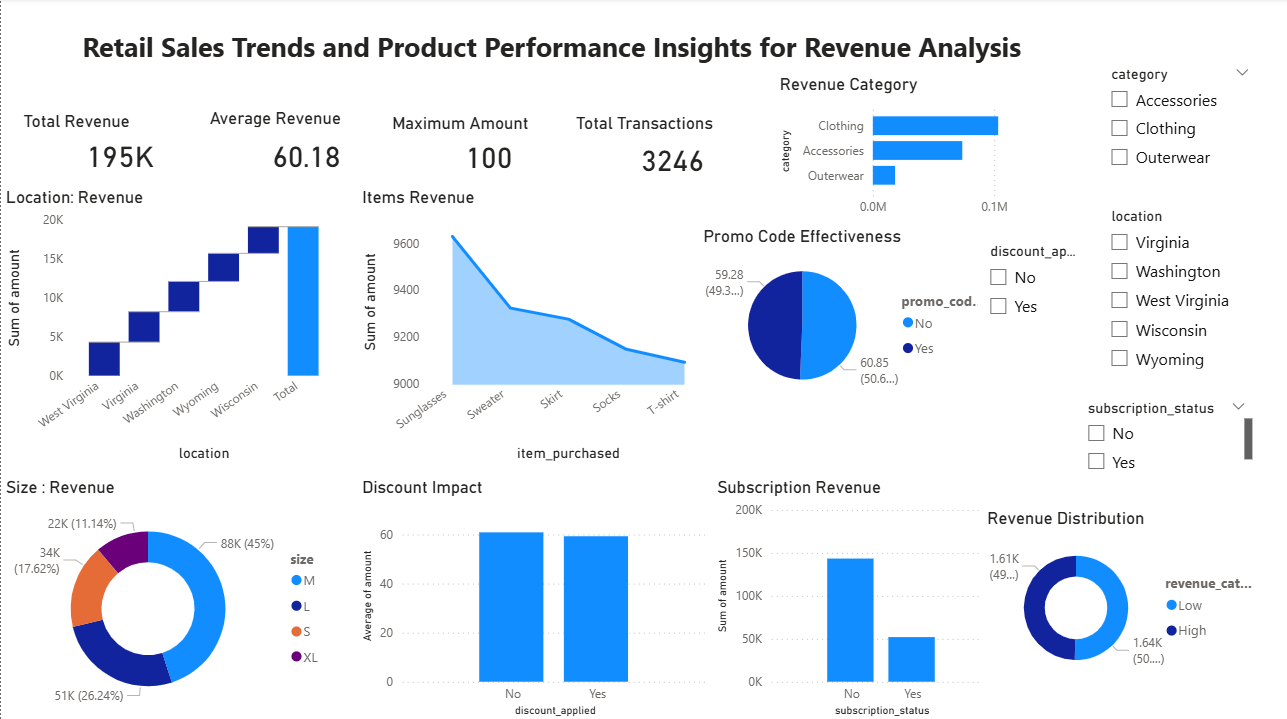

The dashboard page shown, as its layout file describes it:
{"tool":"powerbi","page":{"name":"Page 1","canvas":[1280,720],"ordinal":0},"visuals":[{"type":"textbox","box":[76.3,24.6,947.7,88.6],"z":0},{"type":"card","title":"Total Revenue","fields":{"Values":["Sum(Sheet1.amount)"]},"box":[17.5,112.5,202.5,70],"z":1000},{"type":"card","title":"Average Revenue","fields":{"Values":["Avg(Sheet1.amount)"]},"box":[202.5,110,202.5,75],"z":2000},{"type":"card","title":"Maximum Amount","fields":{"Values":["Max(Sheet1.amount)"]},"box":[385,115,202.5,67.5],"z":3000},{"type":"card","title":"Total  Transactions","fields":{"Values":["CountNonNull(Sheet1.item_purchased)"]},"box":[567.5,115,202.5,72.5],"z":4000},{"type":"clusteredBarChart","title":"Revenue Category","fields":{"Category":["Sheet1.category"],"Y":["Sum(Sheet1.amount)"]},"box":[770,76,298,150],"z":5000},{"type":"areaChart","title":"Items Revenue","fields":{"Category":["Sheet1.item_purchased"],"Y":["Sum(Sheet1.amount)"]},"box":[354,188,354,278],"z":6000},{"type":"waterfallChart","title":"Location: Revenue","fields":{"Category":["Sheet1.location"],"Y":["Sum(Sheet1.amount)"]},"box":[0,188,338,278],"z":7000},{"type":"donutChart","title":"Size : Revenue","fields":{"Category":["Sheet1.size"],"Y":["Sum(Sheet1.amount)"]},"box":[0,476,338,244],"z":8000},{"type":"clusteredColumnChart","title":"Discount Impact","fields":{"Category":["Sheet1.discount_applied"],"Y":["Avg(Sheet1.amount)"]},"box":[354,476,354,244],"z":9000},{"type":"pieChart","title":"Promo Code Effectiveness","fields":{"Category":["Sheet1.promo_code_used"],"Y":["Avg(Sheet1.amount)"]},"box":[694,226,298,180],"z":10000},{"type":"clusteredColumnChart","title":"Subscription Revenue","fields":{"Category":["Sheet1.subscription_status"],"Y":["Sum(Sheet1.amount)"]},"box":[708,476,284,244],"z":11000},{"type":"donutChart","title":"Revenue Distribution","fields":{"Category":["Sheet1.revenue_category"],"Y":["CountNonNull(Sheet1.item_purchased)"]},"box":[976,508,278,180],"z":12000},{"type":"slicer","fields":{"Values":["Sheet1.category"]},"box":[1092,62,162,120],"z":13000},{"type":"slicer","fields":{"Values":["Sheet1.location"]},"box":[1092,226,162,180],"z":14000},{"type":"slicer","fields":{"Values":["Sheet1.discount_applied"]},"box":[972,240,120,88],"z":15000},{"type":"slicer","fields":{"Values":["Sheet1.subscription_status"]},"box":[1068,394,182,82],"z":16000}]}

Visuals, with their boxes in screenshot pixels (x1, y1, x2, y2), scaled from the page's 1280x720 canvas onto the 1287x719 screenshot:
textbox: region(77, 25, 1030, 113)
"Total Revenue" card: region(18, 112, 221, 182)
"Average Revenue" card: region(204, 110, 407, 185)
"Maximum Amount" card: region(387, 115, 591, 182)
"Total  Transactions" card: region(571, 115, 774, 187)
"Revenue Category" clusteredBarChart: region(774, 76, 1074, 226)
"Items Revenue" areaChart: region(356, 188, 712, 465)
"Location: Revenue" waterfallChart: region(0, 188, 340, 465)
"Size : Revenue" donutChart: region(0, 475, 340, 718)
"Discount Impact" clusteredColumnChart: region(356, 475, 712, 718)
"Promo Code Effectiveness" pieChart: region(698, 226, 997, 405)
"Subscription Revenue" clusteredColumnChart: region(712, 475, 997, 718)
"Revenue Distribution" donutChart: region(981, 507, 1261, 687)
slicer - Sheet1.category: region(1098, 62, 1261, 182)
slicer - Sheet1.location: region(1098, 226, 1261, 405)
slicer - Sheet1.discount_applied: region(977, 240, 1098, 328)
slicer - Sheet1.subscription_status: region(1074, 393, 1257, 475)
